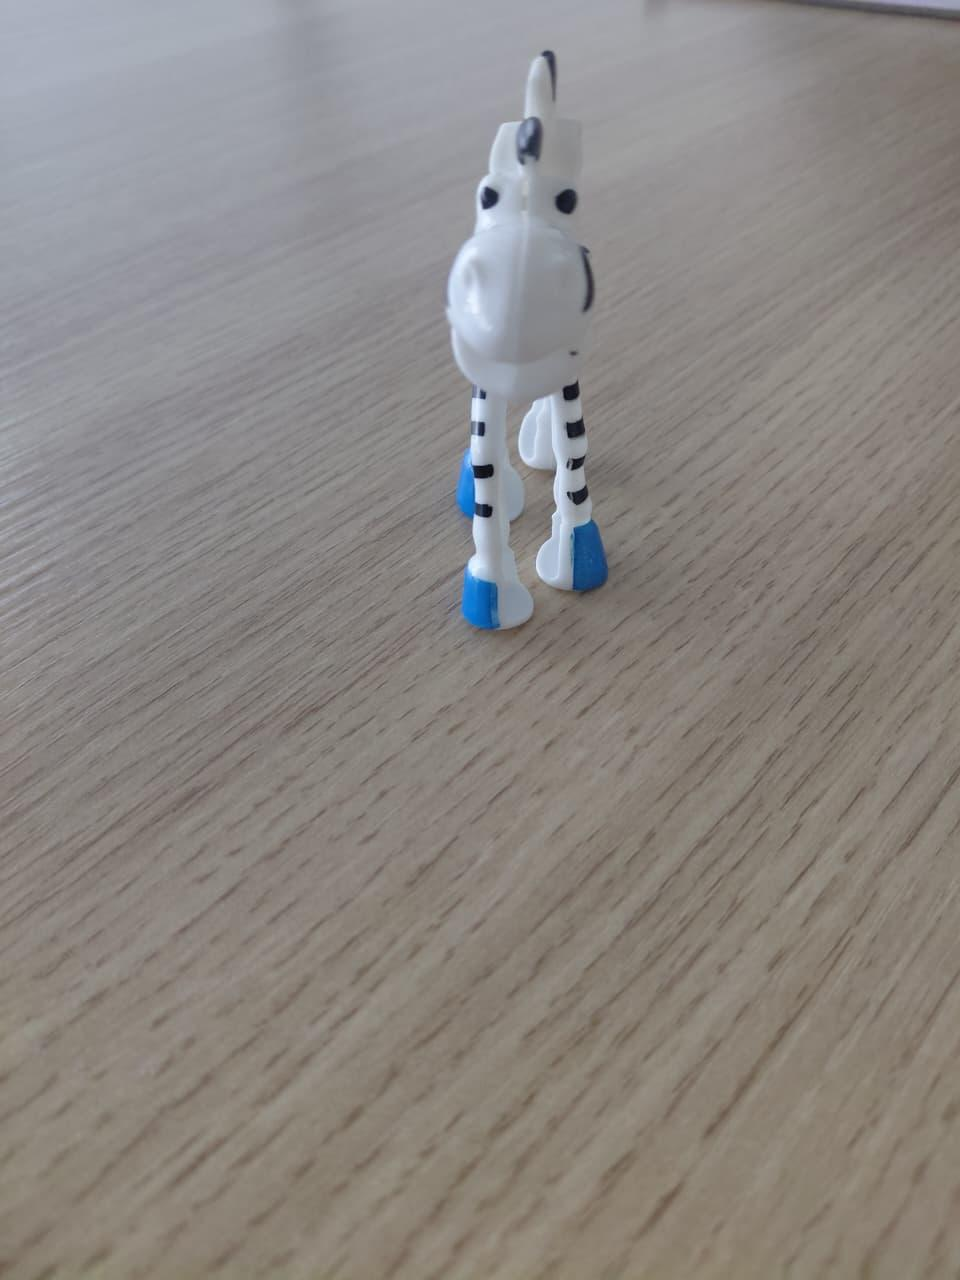zebra: (297, 23, 838, 695)
